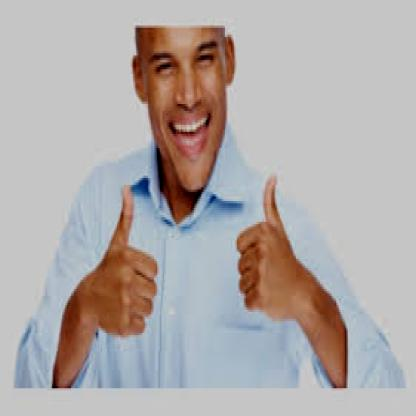Thumbs up: (84, 192, 157, 340), (241, 180, 288, 336)
